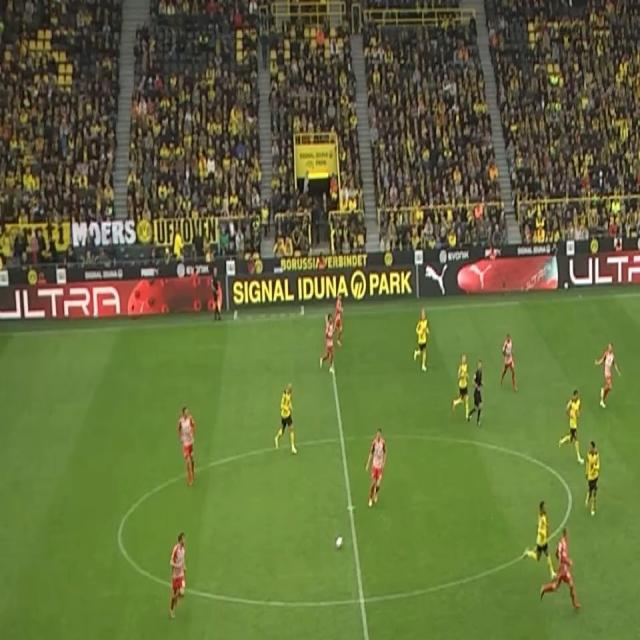ball: (334, 536, 344, 550)
